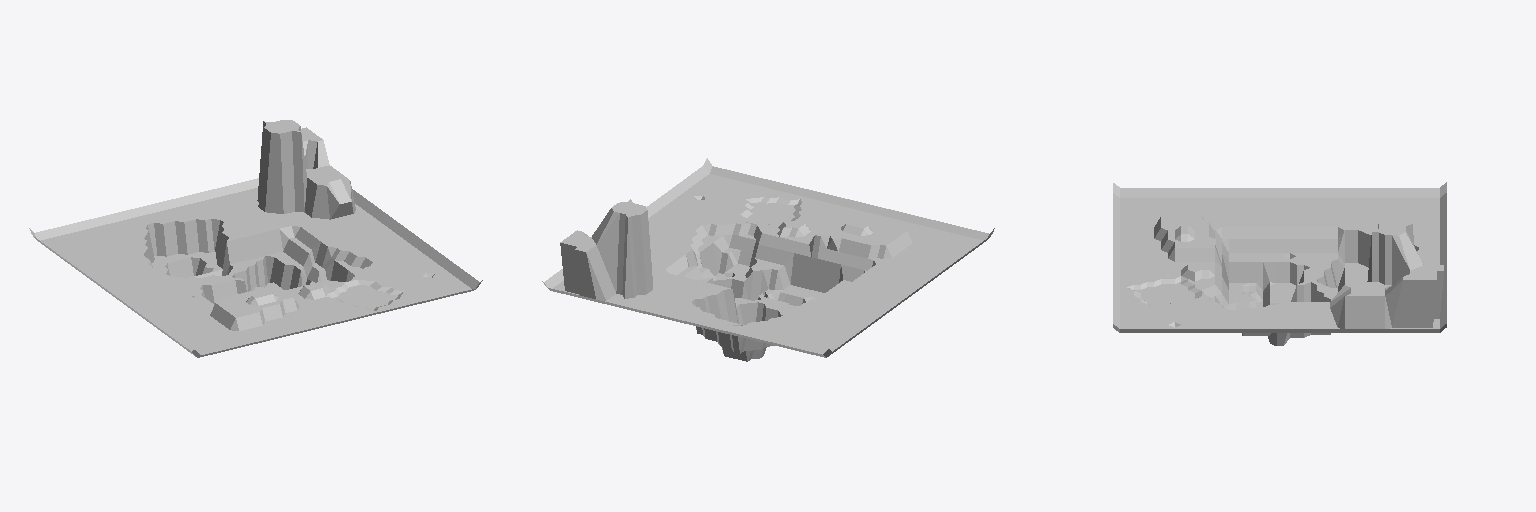
The model's file is Terrain.obj.
The picture shows the model from 3 angles: view 1: azimuth 30°, elevation 25°; view 2: azimuth 150°, elevation 25°; view 3: azimuth 270°, elevation 25°; orthographic projection.
Visible parts, largest first — view 1: Grid; view 2: Grid; view 3: Grid.
Boxes of the visible parts, <box> form: Grid: <box>29,120,482,357</box>; Grid: <box>542,158,994,361</box>; Grid: <box>1113,182,1446,345</box>.
Size of the model in its own units: 20 by 9.04 by 20.